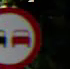No overtake: (0, 2, 45, 64)
